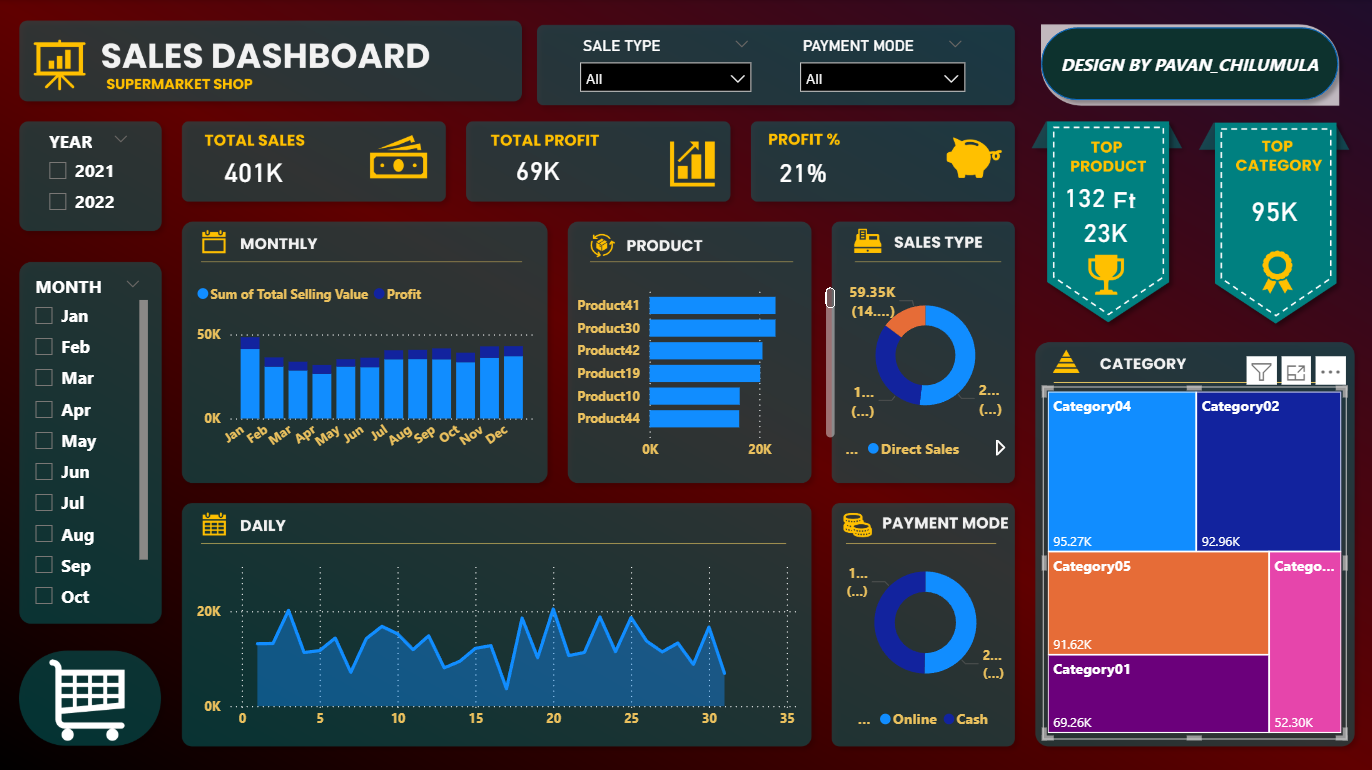

The dashboard page shown, as its layout file describes it:
{"tool":"powerbi","page":{"name":"Super Market Sales Dashboard","canvas":[1280,720],"ordinal":0},"visuals":[{"type":"slicer","fields":{"Values":["InputData.Year"]},"box":[33.4,116,98.5,93.8],"z":0},{"type":"slicer","fields":{"Values":["InputData.Month Name"]},"box":[20.7,251.1,122.4,324.2],"z":1000},{"type":"slicer","fields":{"Values":["InputData.SALE TYPE"]},"box":[530.7,30.2,179.7,59.1],"z":2000},{"type":"slicer","fields":{"Values":["InputData.PAYMENT MODE"]},"box":[734.5,30.2,173.7,59.1],"z":3000},{"type":"card","fields":{"Values":["Sum(InputData.Total Selling Value)"]},"box":[203.4,141.5,66.8,38.1],"z":4000},{"type":"card","fields":{"Values":["Sum(InputData.Total Selling Value)"]},"box":[1152.3,160.5,68.3,73.1],"z":5000},{"type":"card","fields":{"Values":["Min(InputData.MasterData.UOM)"]},"box":[1029.9,171.7,35,25.4],"z":6000},{"type":"card","fields":{"Values":["InputData.Profit %"]},"box":[704.1,144.6,87.4,33.4],"z":7000},{"type":"card","fields":{"Values":["InputData.Profit"]},"box":[462.5,143,77.9,33.4],"z":8000},{"type":"card","fields":{"Values":["Sum(InputData.Total Selling Value)"]},"box":[1001.3,200.3,57.2,33.4],"z":9000},{"type":"card","fields":{"Values":["Sum(InputData.QUANTITY)"]},"box":[972.7,168.5,74.7,31.8],"z":10000},{"type":"columnChart","fields":{"Category":["InputData.Month Name"],"Y":["Sum(InputData.Total Selling Value)","InputData.Profit"]},"box":[179.6,254.3,322.6,182.8],"z":11000},{"type":"clusteredBarChart","fields":{"Y":["Sum(InputData.Total Selling Value)"],"Category":["InputData.MasterData.PRODUCT"]},"box":[530.9,255.9,251.1,181.2],"z":12000},{"type":"areaChart","fields":{"Y":["Sum(InputData.Total Selling Value)"],"Category":["InputData.Day"]},"box":[179.6,511.8,569,176.4],"z":13000},{"type":"donutChart","fields":{"Y":["Sum(InputData.Total Selling Value)"],"Category":["InputData.SALE TYPE"]},"box":[782,255.9,158.9,181.2],"z":14000},{"type":"donutChart","fields":{"Y":["Sum(InputData.Total Selling Value)"],"Category":["InputData.PAYMENT MODE"]},"box":[782,500.7,158.9,187.5],"z":15000},{"type":"treemap","fields":{"Group":["InputData.MasterData.CATEGORY"],"Values":["Sum(InputData.Total Selling Value)"]},"box":[971.1,360.8,282.9,327.4],"z":16000},{"type":"shape","box":[960,17.5,294,85.8],"z":17000}]}

Visuals, with their boxes in screenshot pixels (x1, y1, x2, y2), scaled from the page's 1280x720 canvas onto the 1372x770 screenshot:
slicer - InputData.Year: detection(36, 124, 141, 224)
slicer - InputData.Month Name: detection(22, 269, 153, 615)
slicer - InputData.SALE TYPE: detection(569, 32, 761, 96)
slicer - InputData.PAYMENT MODE: detection(787, 32, 973, 96)
card - Sum(InputData.Total Selling Value): detection(218, 151, 290, 192)
card - Sum(InputData.Total Selling Value): detection(1235, 172, 1308, 250)
card - Min(InputData.MasterData.UOM): detection(1104, 184, 1141, 211)
card - InputData.Profit %: detection(755, 155, 848, 190)
card - InputData.Profit: detection(496, 153, 579, 189)
card - Sum(InputData.Total Selling Value): detection(1073, 214, 1135, 250)
card - Sum(InputData.QUANTITY): detection(1043, 180, 1123, 214)
columnChart - InputData.Month Name x Sum(InputData.Total Selling Value): detection(193, 272, 538, 467)
clusteredBarChart - Sum(InputData.Total Selling Value) x InputData.MasterData.PRODUCT: detection(569, 274, 838, 467)
areaChart - Sum(InputData.Total Selling Value) x InputData.Day: detection(193, 547, 802, 736)
donutChart - Sum(InputData.Total Selling Value) x InputData.SALE TYPE: detection(838, 274, 1009, 467)
donutChart - Sum(InputData.Total Selling Value) x InputData.PAYMENT MODE: detection(838, 535, 1009, 736)
treemap - InputData.MasterData.CATEGORY x Sum(InputData.Total Selling Value): detection(1041, 386, 1344, 736)
shape: detection(1029, 19, 1344, 110)
